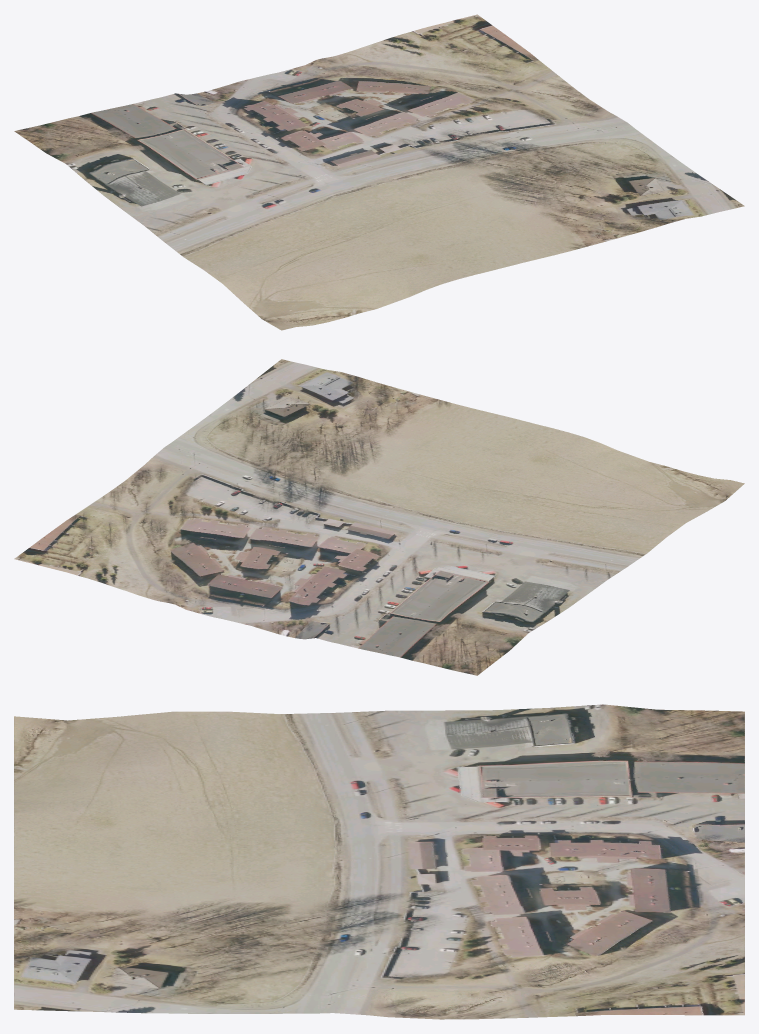
File: CM_Terrain_24489844_6818156.fbx
3 renders of one model, top to bottom at view 1: azimuth 30°, elevation 25°; view 2: azimuth 150°, elevation 25°; view 3: azimuth 270°, elevation 25°, orthographic. The views are drawn at different scales.
Visible parts, largest first — view 1: CM_Terrain_24489844_6818156_LOD0; view 2: CM_Terrain_24489844_6818156_LOD0; view 3: CM_Terrain_24489844_6818156_LOD0.
Part boxes in pixels (x1,y1,x2,y2): CM_Terrain_24489844_6818156_LOD0: [14, 14, 744, 330]; CM_Terrain_24489844_6818156_LOD0: [14, 359, 744, 675]; CM_Terrain_24489844_6818156_LOD0: [14, 704, 744, 1019].
Size of what is drawn, in the model's own units: 205 by 7.02 by 205.
